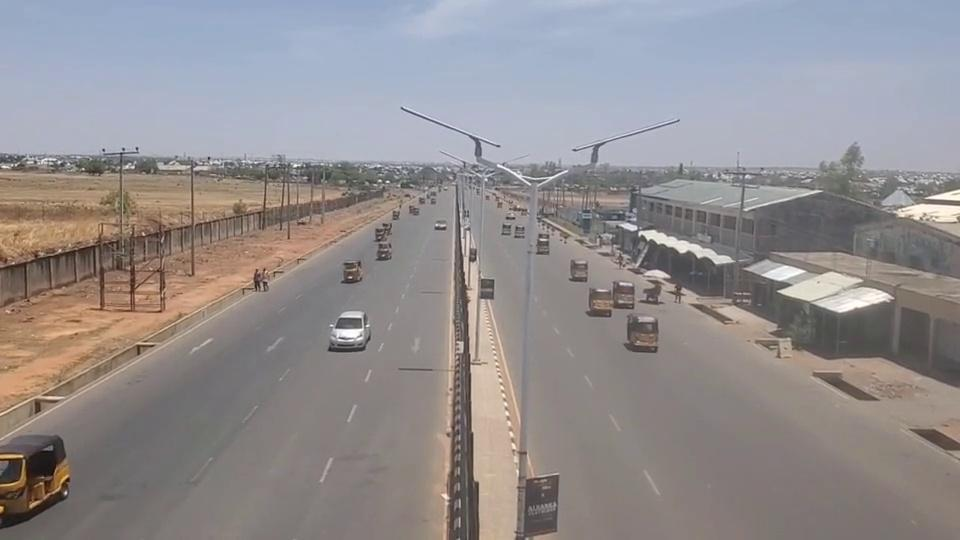car: (328, 310, 370, 350)
keke: (0, 434, 69, 525), (626, 312, 660, 356), (588, 287, 612, 315), (612, 281, 635, 308), (342, 260, 362, 282), (570, 258, 589, 280), (536, 232, 550, 254), (377, 242, 393, 260)
